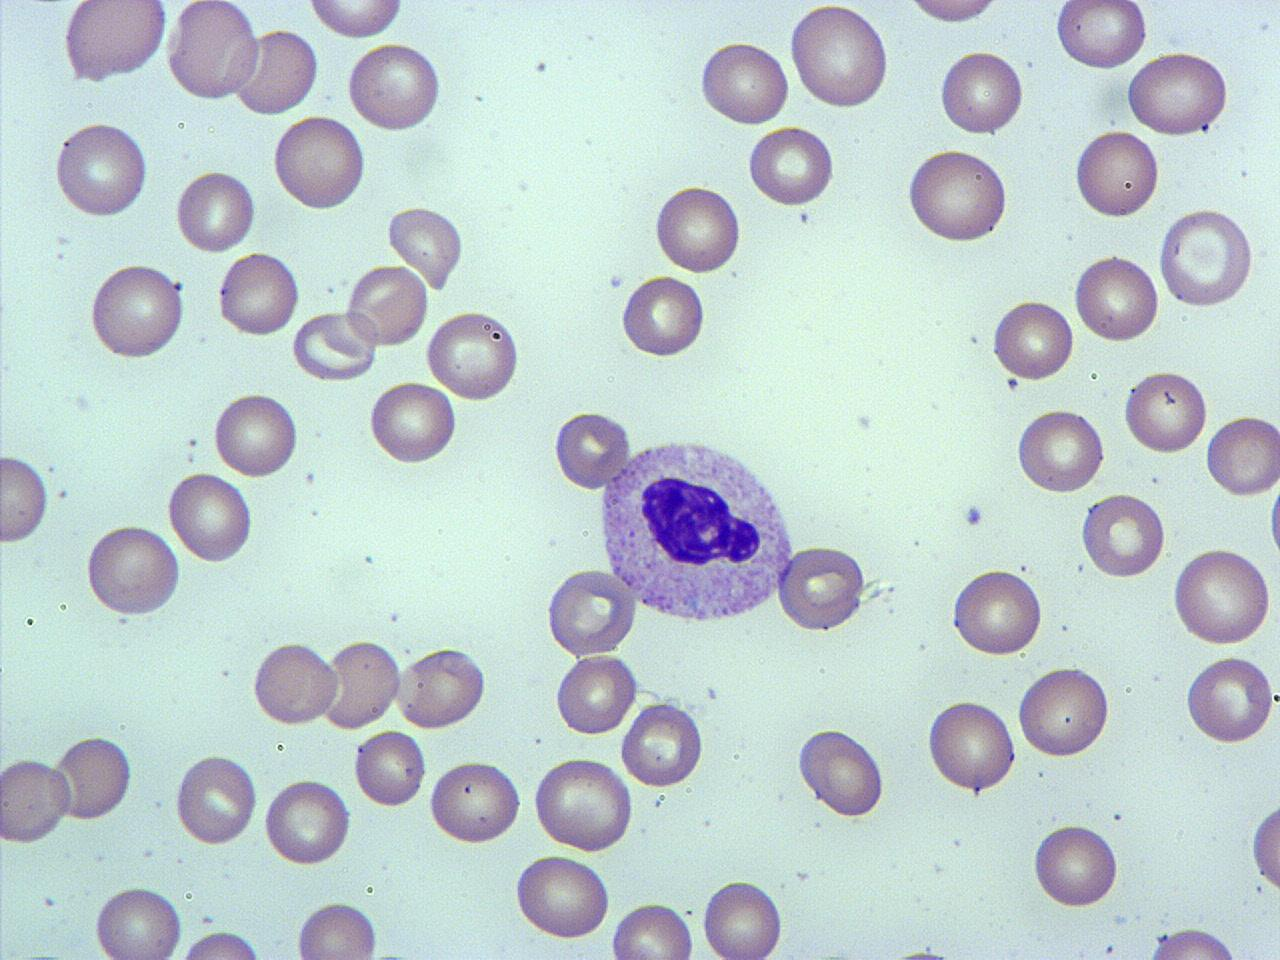Platelets: (962, 501, 984, 528)
RBC: (787, 2, 892, 112), (904, 145, 1011, 247), (1155, 206, 1259, 310), (1171, 544, 1275, 648), (86, 260, 187, 364), (528, 755, 634, 853), (52, 117, 151, 220), (164, 0, 261, 103), (271, 112, 368, 215), (83, 520, 182, 620), (1014, 662, 1112, 760), (424, 308, 524, 404), (1124, 50, 1232, 138), (924, 694, 1018, 795), (1182, 650, 1276, 749), (512, 852, 613, 944), (60, 0, 168, 86), (948, 565, 1045, 660), (346, 40, 445, 133), (164, 467, 256, 567), (426, 756, 525, 848), (542, 566, 639, 659), (696, 37, 792, 130), (794, 726, 888, 820), (652, 181, 745, 276), (1012, 405, 1107, 498), (210, 388, 302, 484), (173, 749, 259, 850), (1072, 127, 1164, 221), (1029, 820, 1121, 914), (261, 774, 352, 869), (1071, 250, 1161, 346), (367, 376, 460, 468), (775, 544, 870, 634), (395, 643, 491, 732), (1078, 488, 1168, 582), (618, 696, 704, 792), (234, 24, 320, 119), (248, 639, 339, 728), (937, 47, 1025, 138), (216, 247, 302, 340), (320, 637, 403, 733), (1121, 368, 1209, 458), (173, 165, 258, 258), (744, 125, 838, 209), (990, 294, 1076, 384), (50, 732, 134, 824), (619, 272, 706, 360), (698, 874, 787, 960), (552, 650, 638, 739), (92, 879, 186, 960), (344, 262, 430, 348), (385, 200, 466, 291), (550, 407, 630, 494), (1204, 410, 1280, 501), (1051, 0, 1147, 72), (351, 725, 428, 811), (291, 307, 378, 383), (0, 753, 70, 847), (292, 898, 384, 960), (608, 899, 696, 960), (0, 450, 50, 548), (1134, 925, 1250, 959), (305, 0, 406, 39), (1249, 792, 1279, 906), (177, 927, 273, 960), (901, 0, 1006, 29)
WBC: (592, 426, 800, 631), (58, 1, 166, 89)
